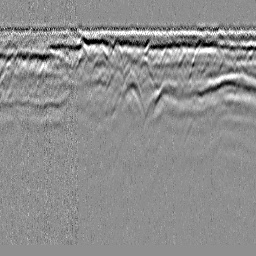cavity: (114, 67, 146, 118)
